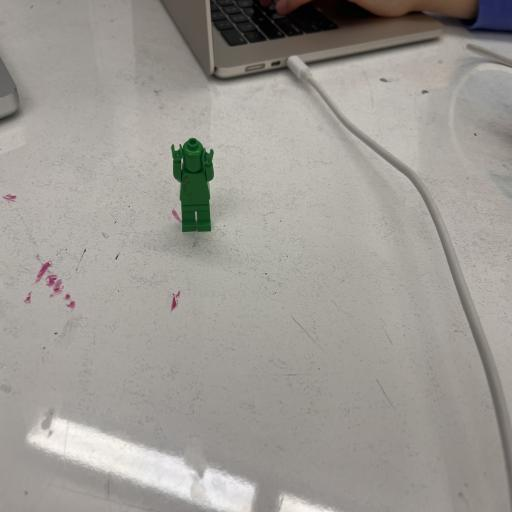Lego-Minifig: (172, 138, 214, 232)
